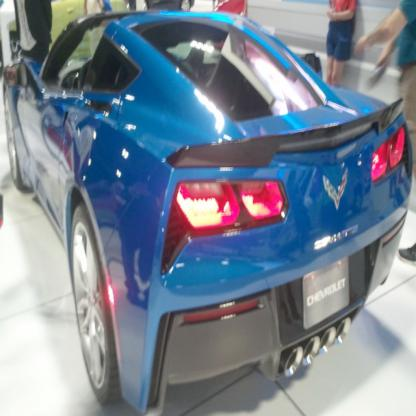Car: (3, 10, 413, 416)
